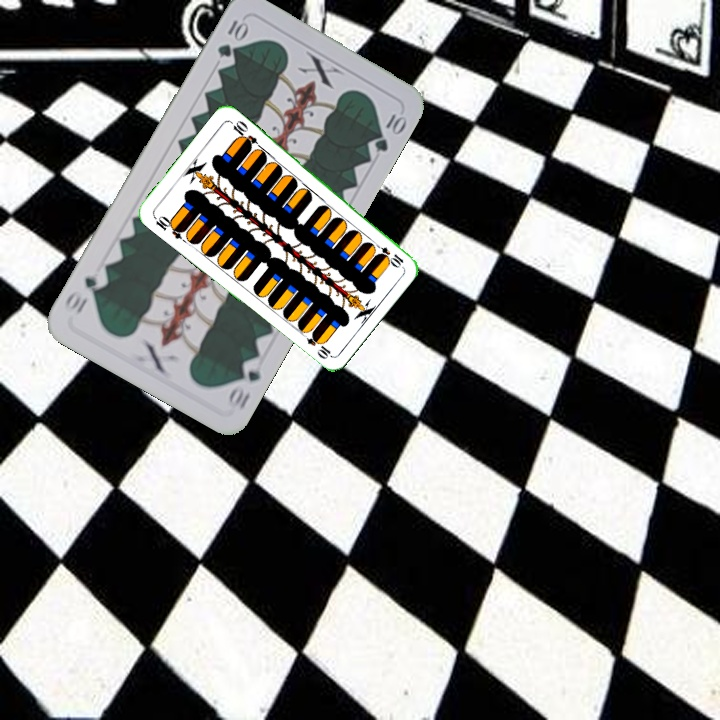E10: (150, 211, 187, 242), (370, 238, 406, 269)
G10: (223, 354, 264, 413), (213, 15, 250, 60)
